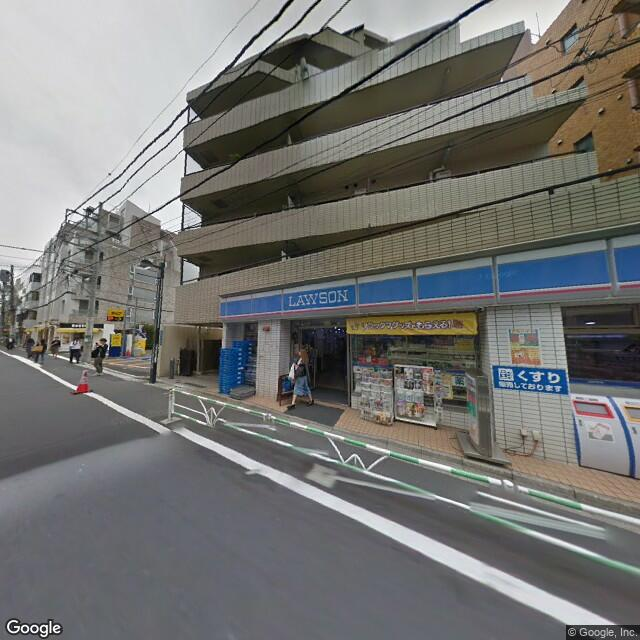lawson: (220, 229, 639, 324)
